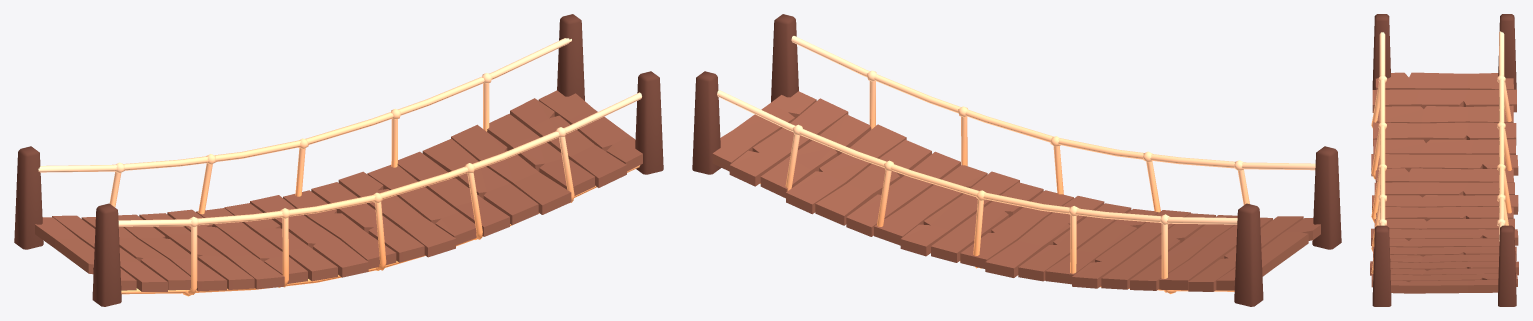
Rendered from bridge_001.glb.
3 views of the same model, side by side, from view 1: azimuth 30°, elevation 25°; view 2: azimuth 150°, elevation 25°; view 3: azimuth 270°, elevation 25° (orthographic). The views are drawn at different scales.
Visible parts, largest first — view 1: bridge_001; view 2: bridge_001; view 3: bridge_001.
Part boxes in pixels (x1,y1,x2,y2): bridge_001: (14, 14, 663, 306); bridge_001: (692, 14, 1341, 306); bridge_001: (1370, 14, 1518, 306).
Bounding box in the file's own units: 8.3 × 1.84 × 2.37.
1 material, 1 textured.
